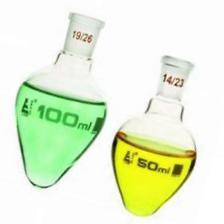Pear shaped flask: (14, 14, 107, 191), (112, 39, 198, 217)
